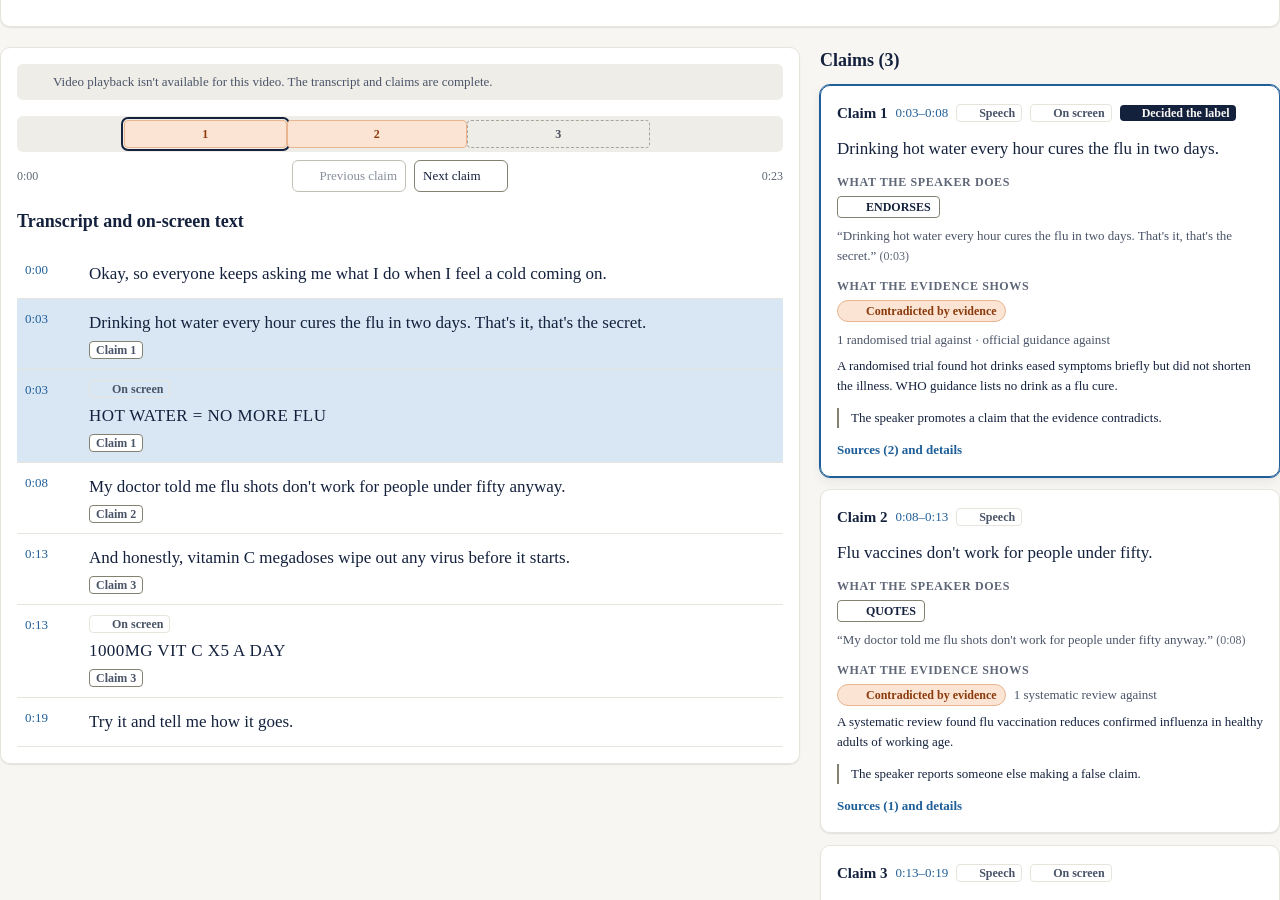
Test case: ClaimDrawer › opens from a claim card as a dialog titled with the claim, and puts the claim in the URL
This screenshot has width=1280, height=900.
(page scrolled)
Click the button "Sources (2) and details": (909, 450) 837,440 -> 980,460
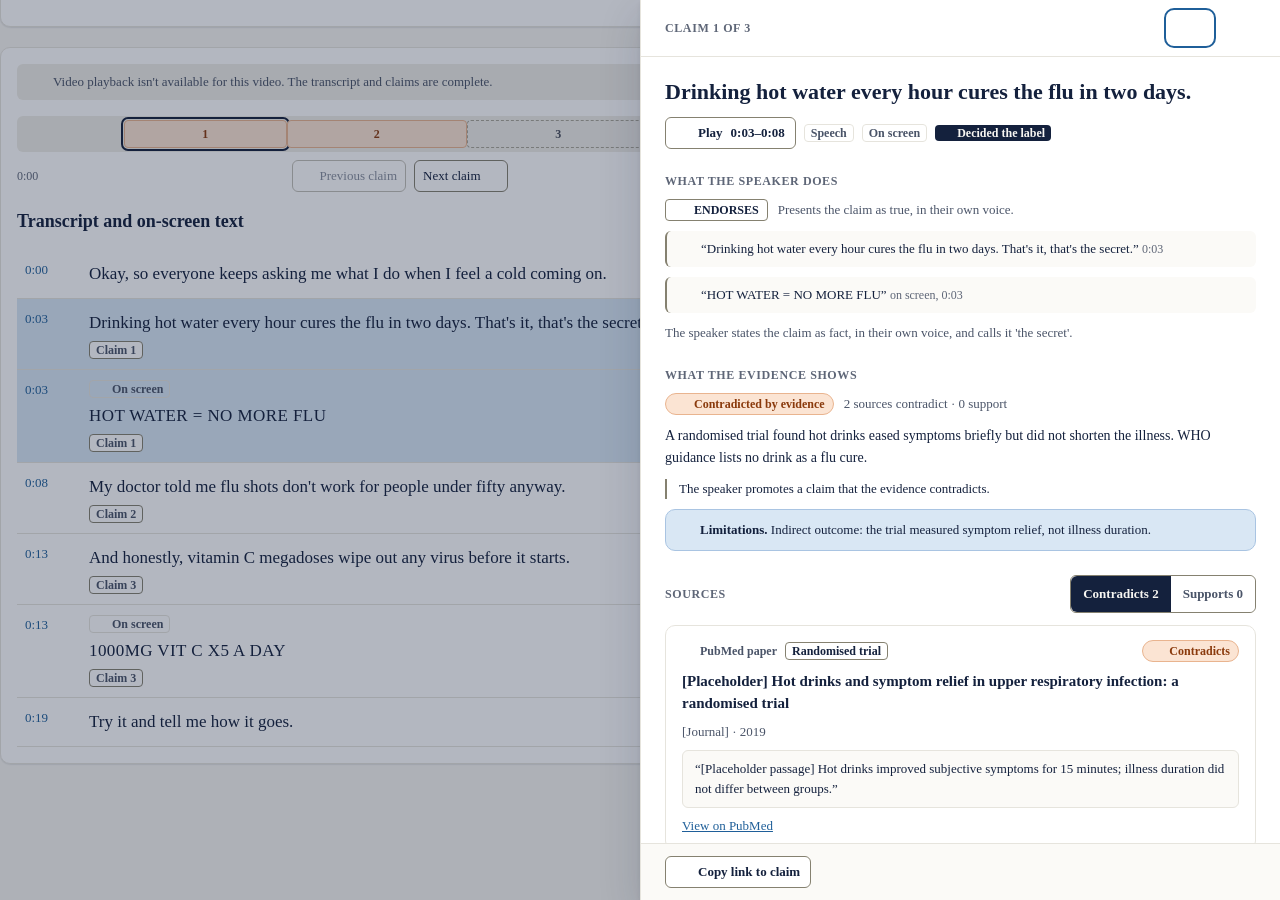
Check: the heading "Drinking hot water every hour cures the flu in two days." is shown, box 665,77 -> 1256,107
Check: the text "Claim 1 of 3" is shown, box 665,20 -> 751,36
